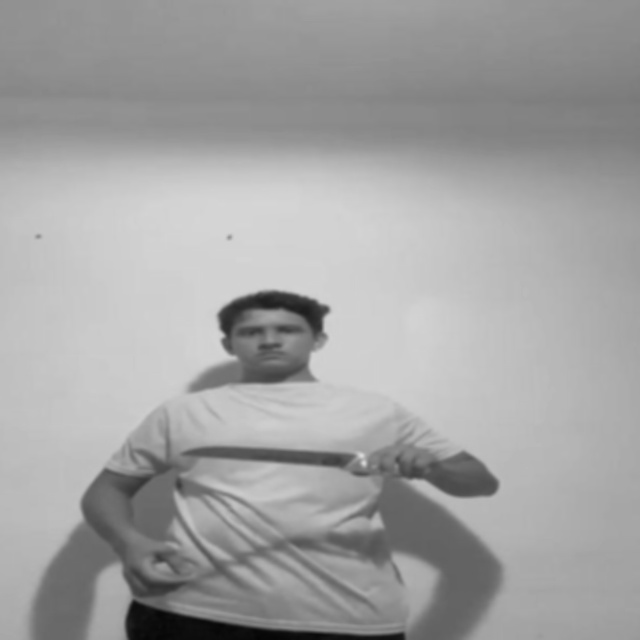Sharp-Object: (181, 443, 360, 471)
